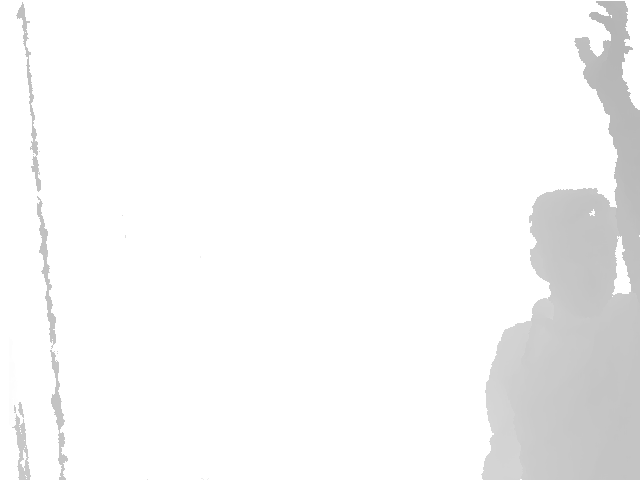hand: (575, 1, 632, 95)
head: (528, 188, 620, 308)
person: (481, 1, 640, 480)
